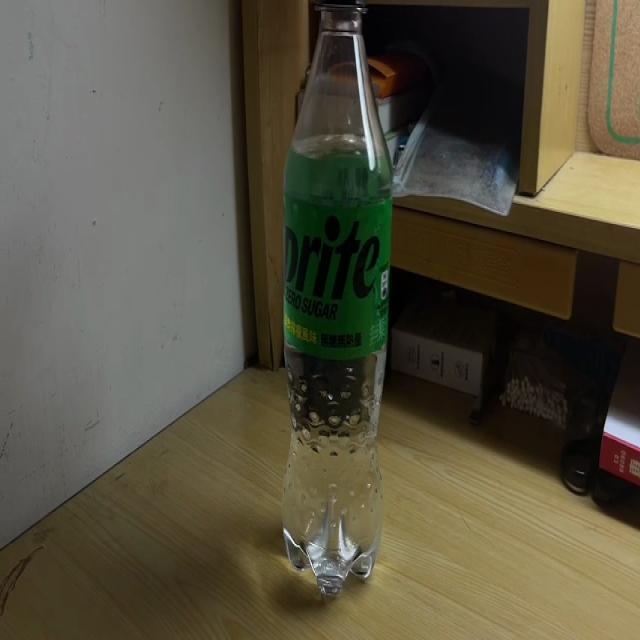Sprite: (282, 0, 393, 604)
